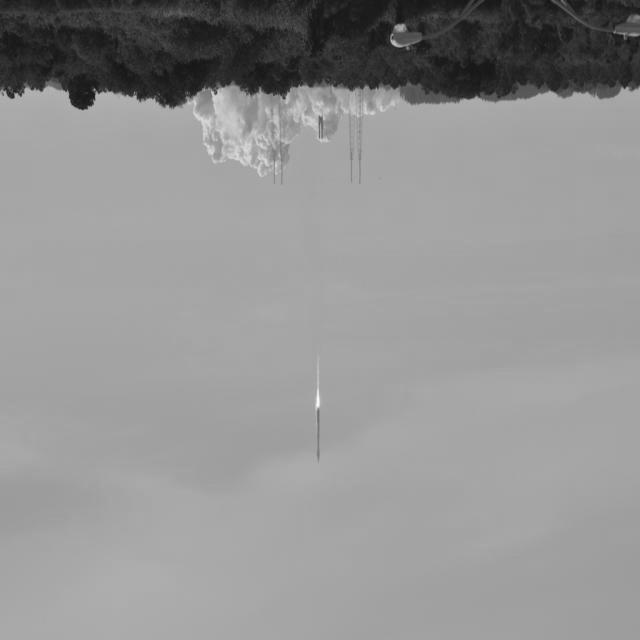missile: (316, 404, 321, 466)
